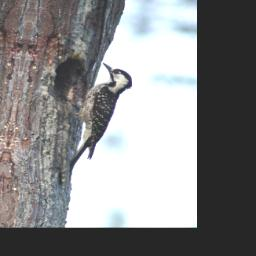Woodpecker: (49, 56, 137, 175)
